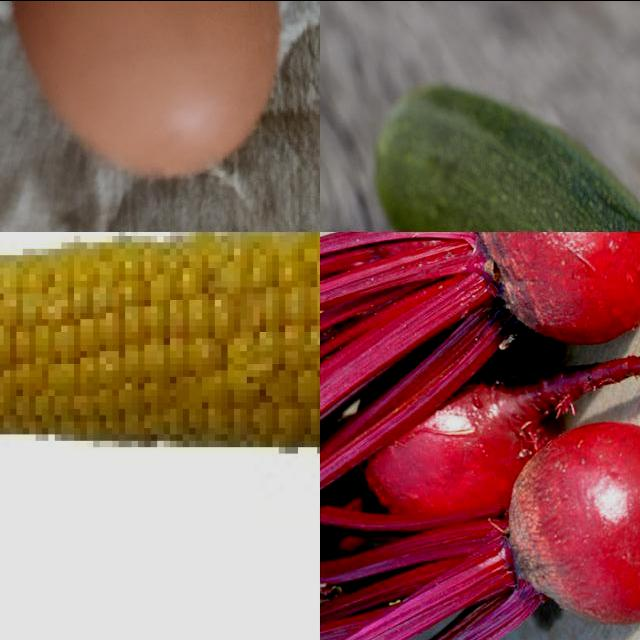beet: (362, 380, 554, 531), (512, 424, 640, 627), (481, 232, 640, 351), (365, 232, 500, 262)
egg: (1, 1, 285, 195)
zucchini: (340, 68, 640, 232)
